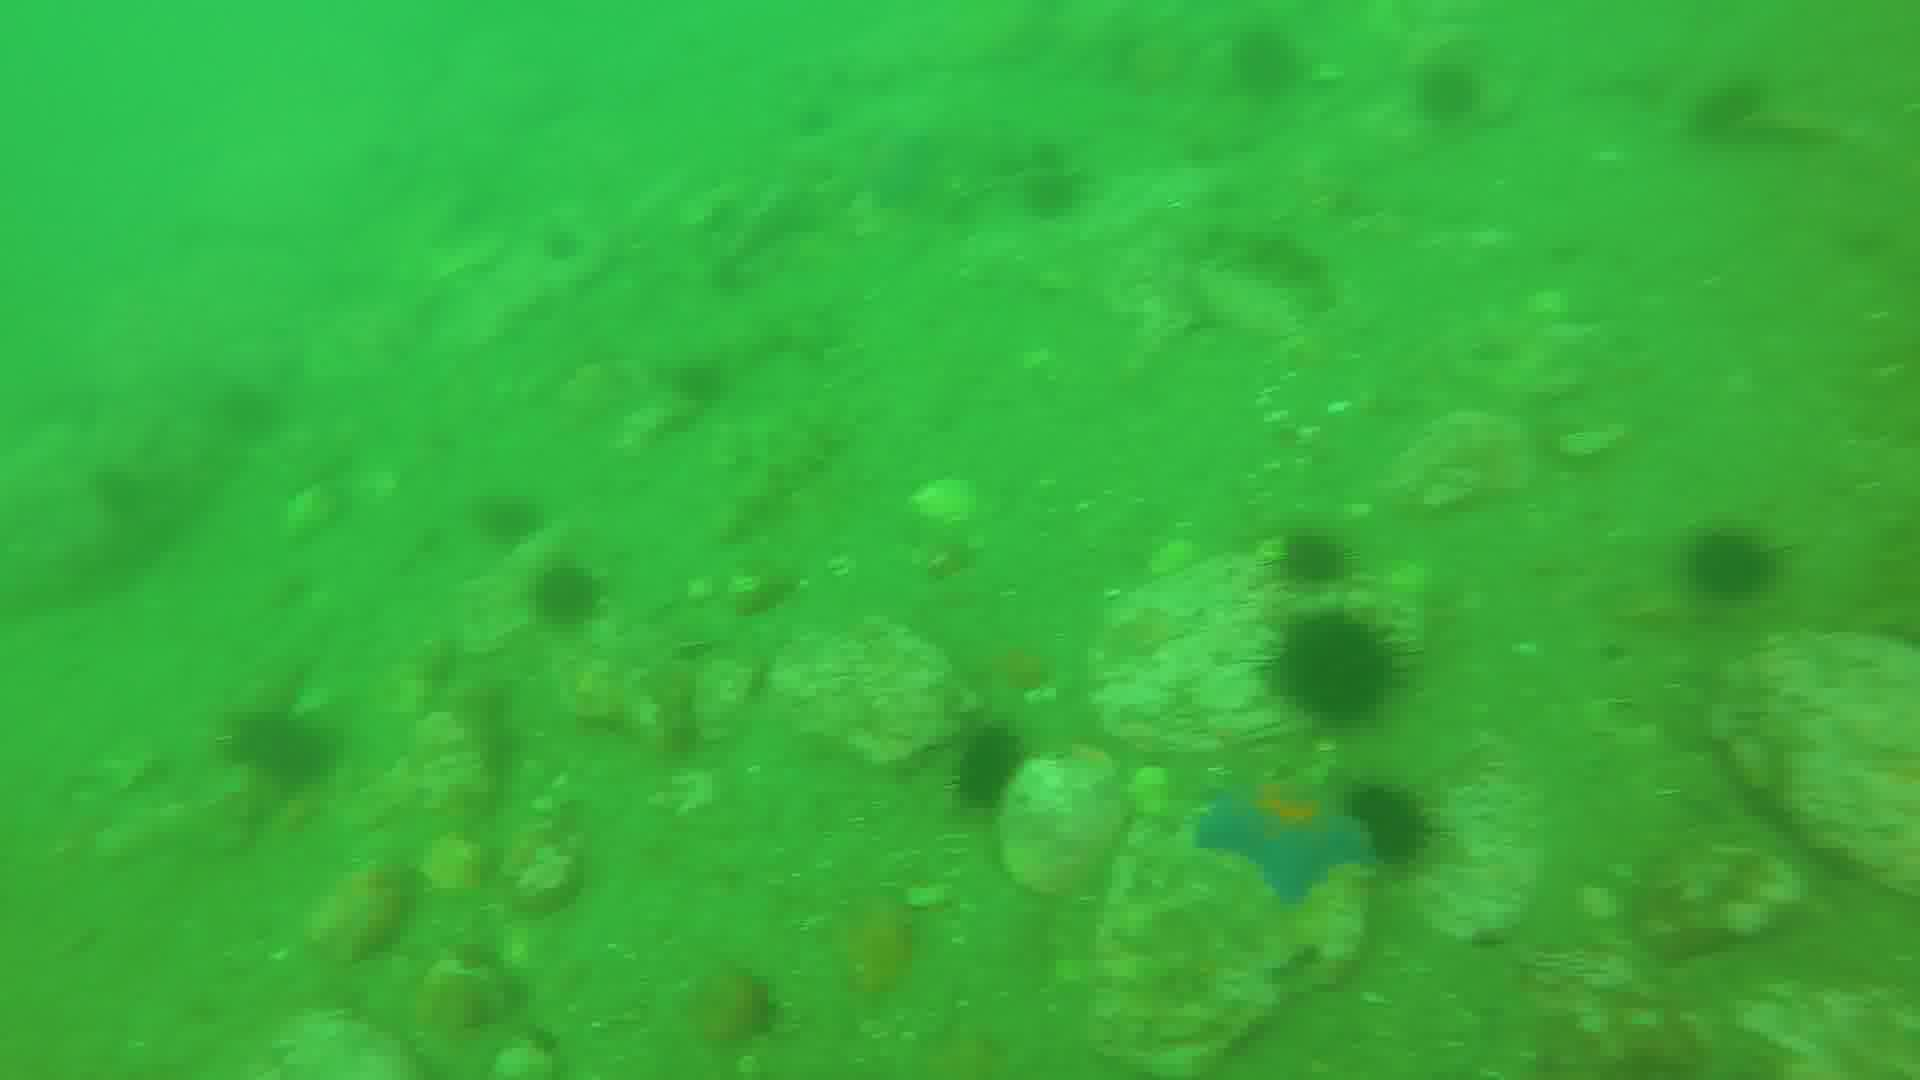echinus: (1278, 609, 1399, 727), (1340, 783, 1441, 869), (1687, 517, 1783, 603), (240, 715, 334, 789), (959, 727, 1034, 804), (1278, 520, 1352, 589), (1014, 162, 1095, 224), (531, 563, 603, 632), (477, 491, 543, 551), (1695, 83, 1771, 132), (1422, 57, 1484, 115)
holothurian: (1166, 210, 1331, 301)
starfish: (1203, 775, 1375, 895), (847, 124, 947, 208)
